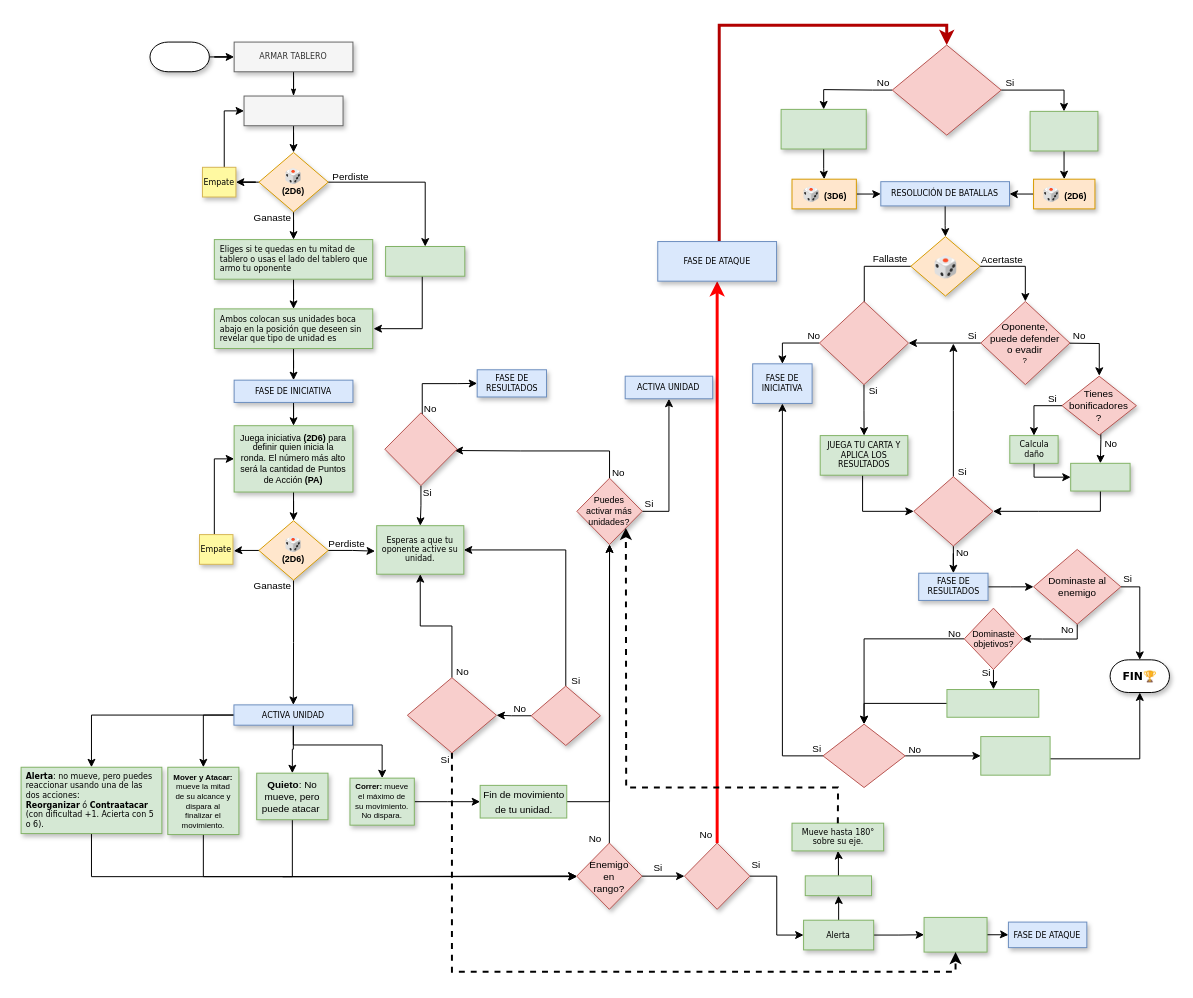
Image size: 1193x998. Some labels were removed from this diagram. Each missing label, with the centre of its shape:
"Anota tus puntos de dominio" goes at (x=992, y=703).
"Aplica daños recibidos" goes at (x=1101, y=478).
"ATAQUE A DISTANCIA" goes at (x=1064, y=132).
"ATAQUE CUERPO A CUERPO" goes at (x=824, y=130).
"Calcula puntos y verifica quien gana" goes at (x=1015, y=755).
"Contraatacar" goes at (x=956, y=935).
"Espera que tu oponente elija su lado del tablero" goes at (x=426, y=262).
"Esta a más de 3cm de distancia ?" goes at (x=947, y=91).
"Estas en Alerta ?" goes at (x=718, y=877).
"INICIO" goes at (x=180, y=58).
"Oponente termino ?" goes at (x=566, y=716).
"POSICIONAMIENTO" goes at (x=294, y=112).
"puedes hacer un ataque de reaccion?" goes at (x=452, y=716).
"Puedes seguir atacando ?" goes at (x=954, y=512).
"Puedes usar una carta de habilidad especial ?" goes at (x=864, y=344).
"Quedan rondas pendientes ?" goes at (x=863, y=755).
"Reorganizar" goes at (x=838, y=887).
"Tu enemigo puede activar unidades?" goes at (x=421, y=450).
